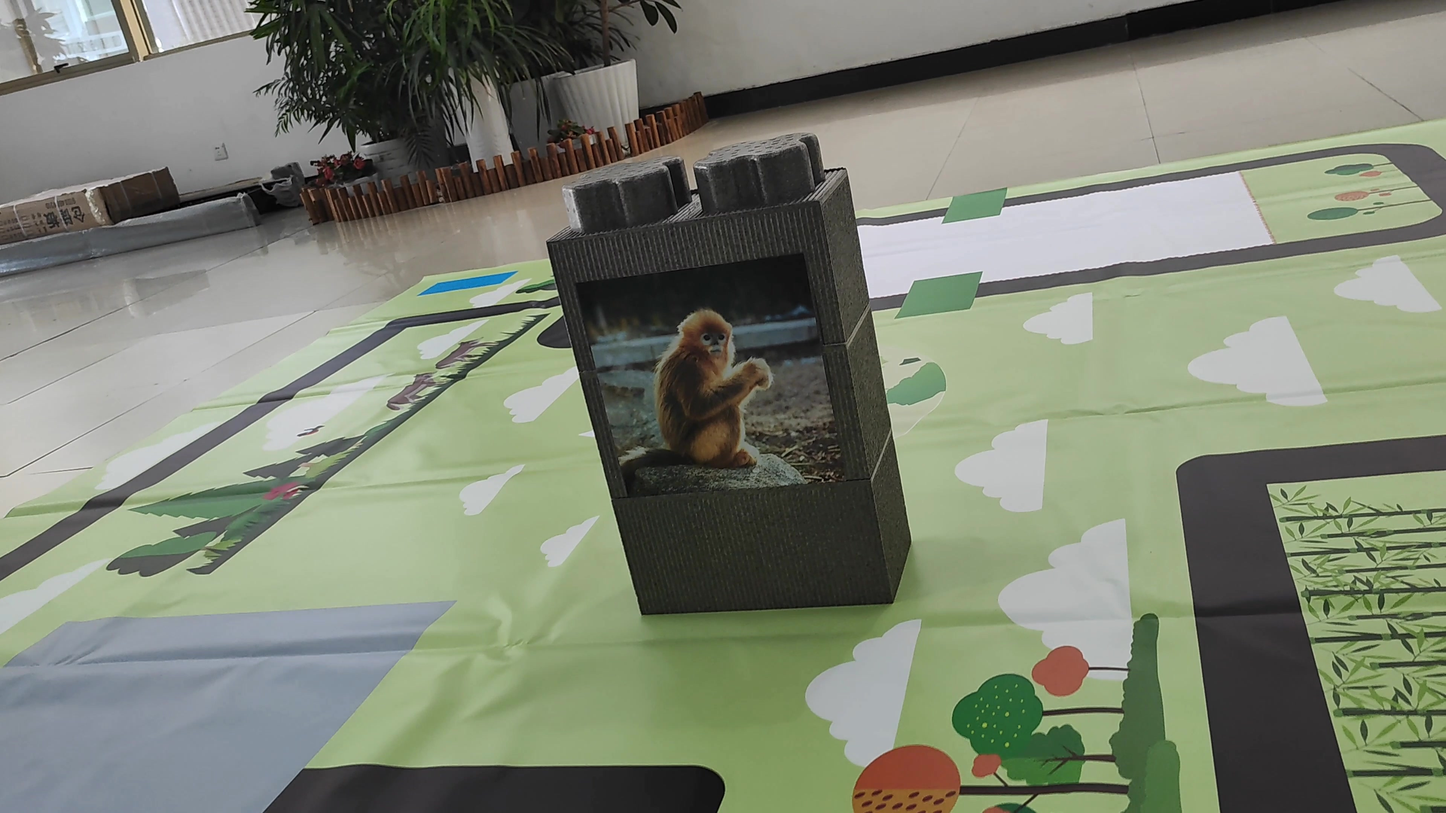monkey: (600, 286, 798, 481)
